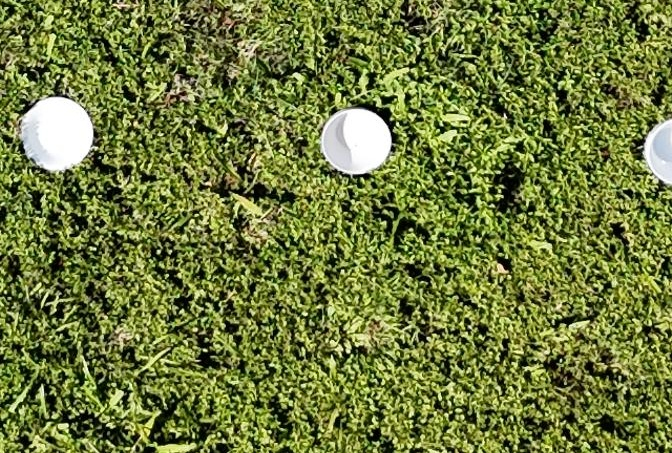bowl: (18, 95, 93, 173), (320, 109, 392, 177), (642, 119, 672, 188)
